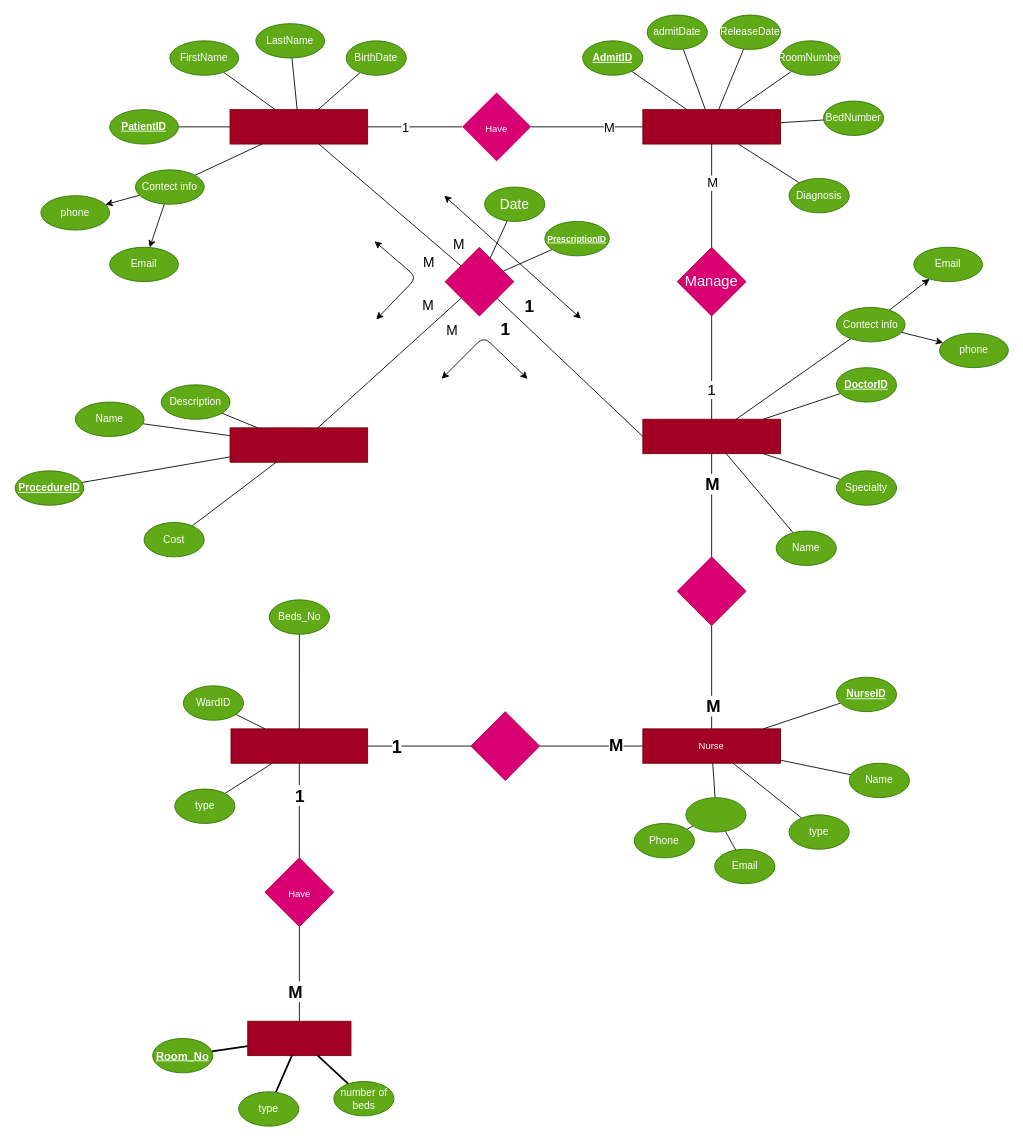
Image size: 1023x1141. Some labels were removed from this diagram. The shapes that lost their labels are listed below. From the top down, each one's centre as x and y in pixels, then its label:
[298,126]: Patient
[711,126]: Addmission
[479,281]: prescription
[298,444]: Procedure
[711,436]: Doctor
[711,591]: assist
[299,745]: Wards
[505,745]: Work in
[715,814]: Contact info
[299,1038]: Rooms
